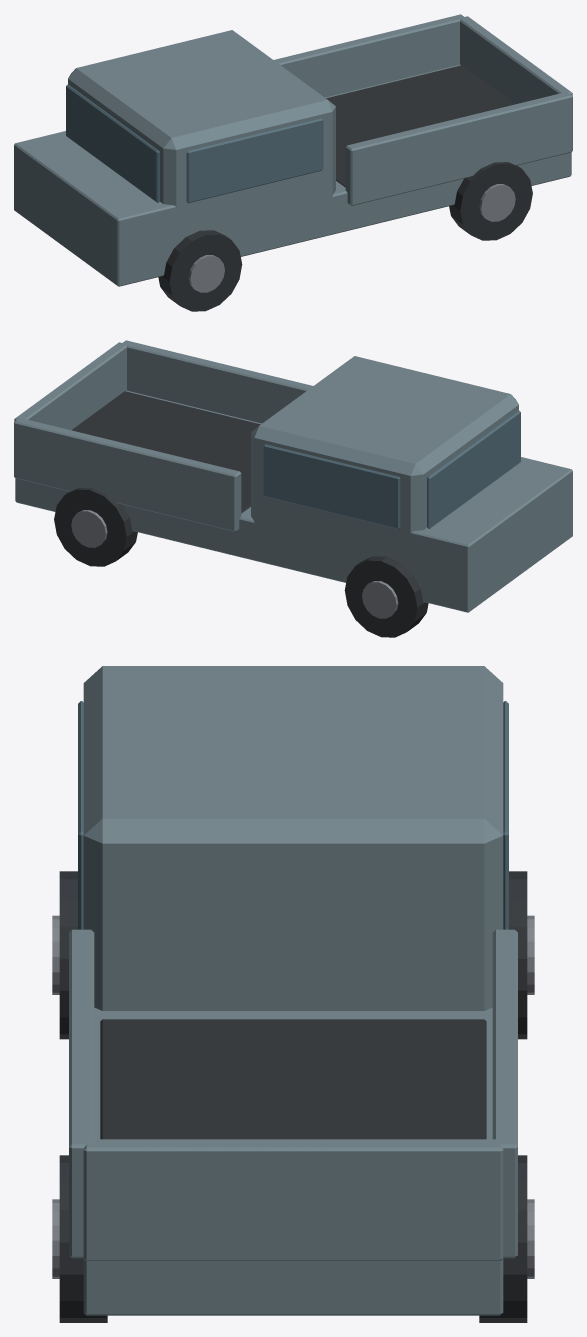
File: pickup.glb
3 renders of one model, top to bottom at view 1: azimuth 30°, elevation 25°; view 2: azimuth 150°, elevation 25°; view 3: azimuth 270°, elevation 25°, orthographic. The views are drawn at different scales.
Parts seen in each view (by area): view 1: pickup; view 2: pickup; view 3: pickup.
Boxes of the visible parts, x1,y1,x2,y2 form: pickup: [14, 14, 572, 311]; pickup: [14, 340, 572, 637]; pickup: [52, 666, 534, 1322].
Bounding box in the file's own units: 5.01 × 1.8 × 2.3.
